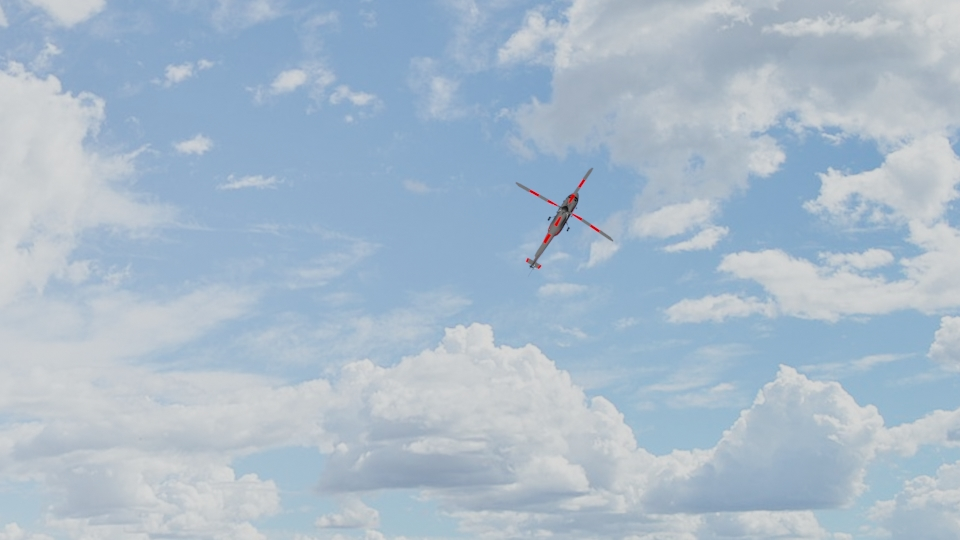heli: (514, 168, 598, 270)
